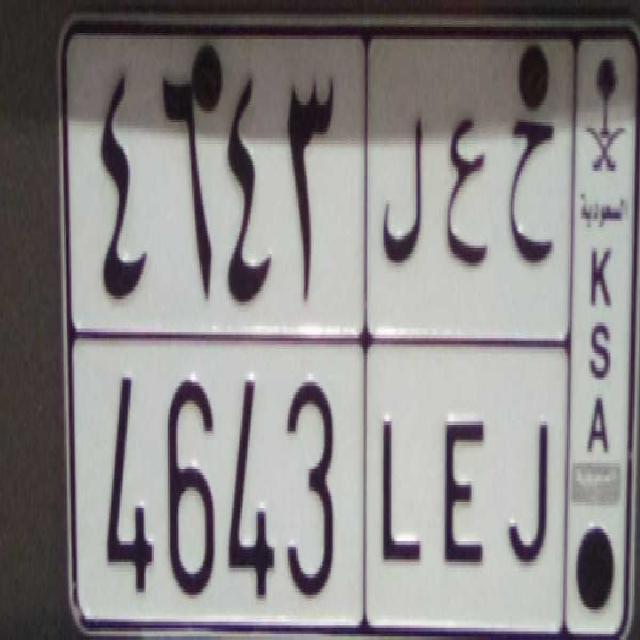license_plate: (68, 328, 568, 637)
